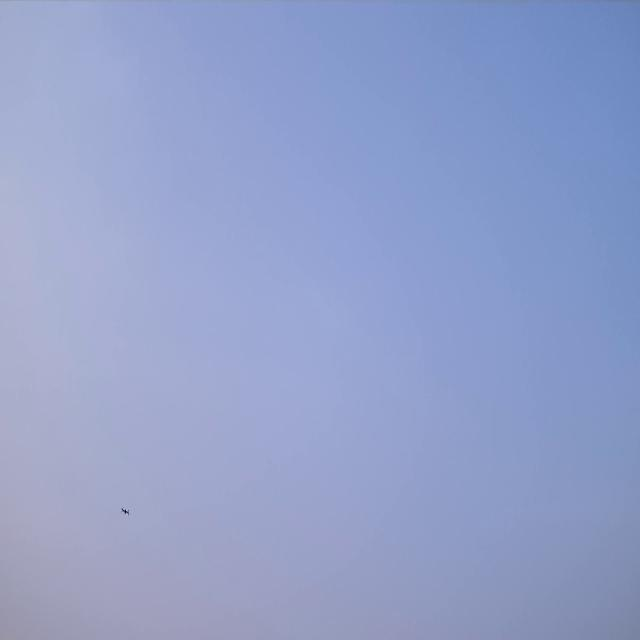UAV: (120, 506, 131, 516)
